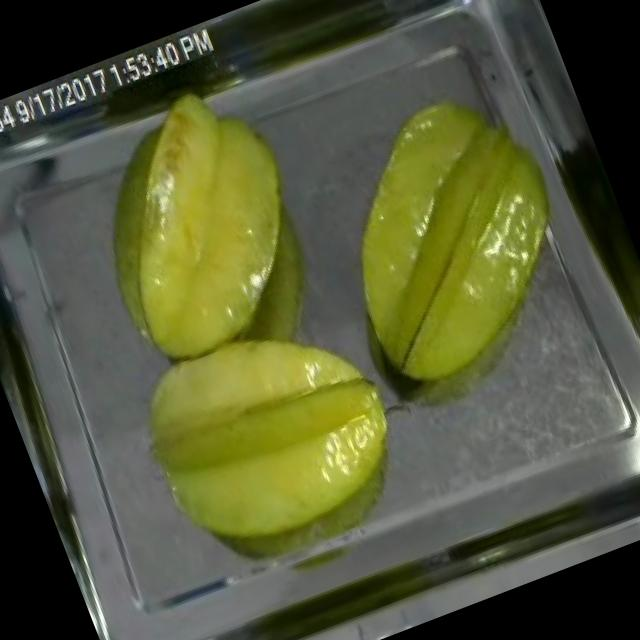fruit: (286, 58, 616, 417), (110, 284, 430, 583), (54, 59, 345, 383)
